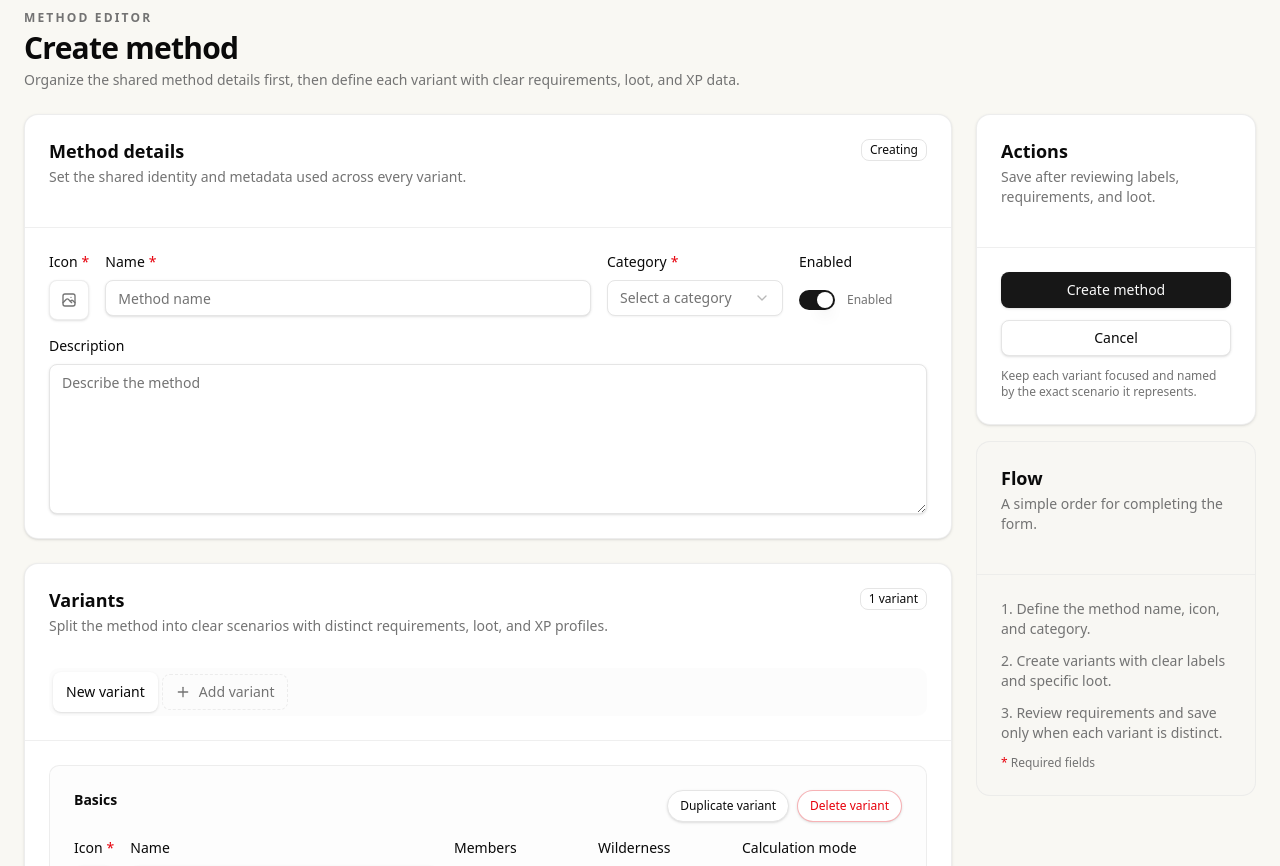
it: critical flow: create/edit form validations › requires method and variant icon selection in create mode
Click the button "Create method". click: click(1116, 290)
box: x1=1001 y1=272 x2=1231 y2=308
(page scrolled)
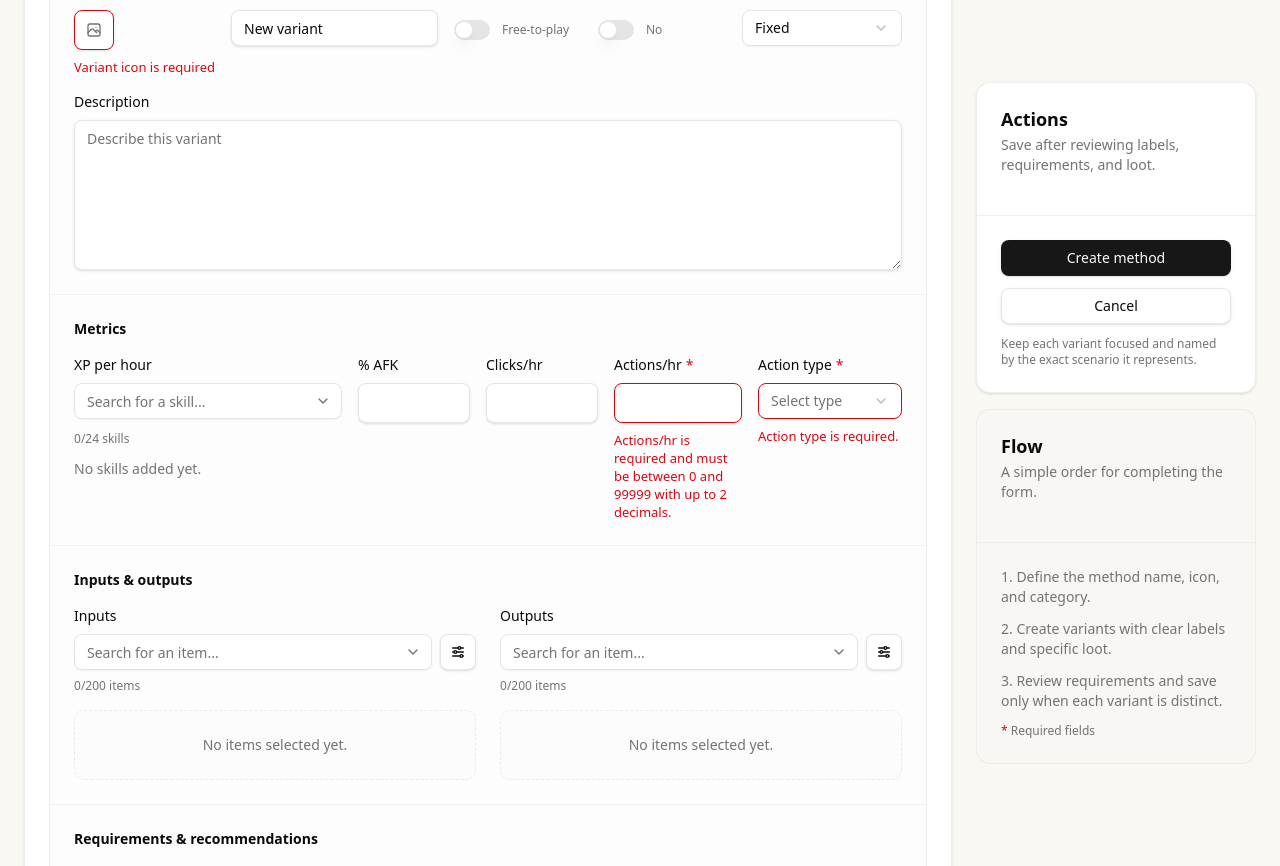
Now the text "Variant icon is required" is shown, box x1=74 y1=58 x2=215 y2=76
Now the text "Actions/hr is required and must be between 0 and 99999 with up to 2 decimals." is shown, box x1=614 y1=431 x2=742 y2=521
Now the text "Action type is required." is shown, box x1=758 y1=427 x2=902 y2=445
